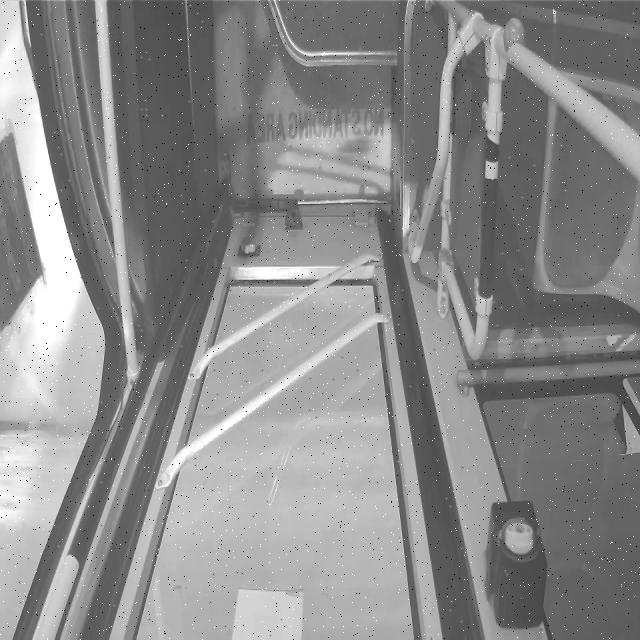close: (108, 205, 447, 640)
